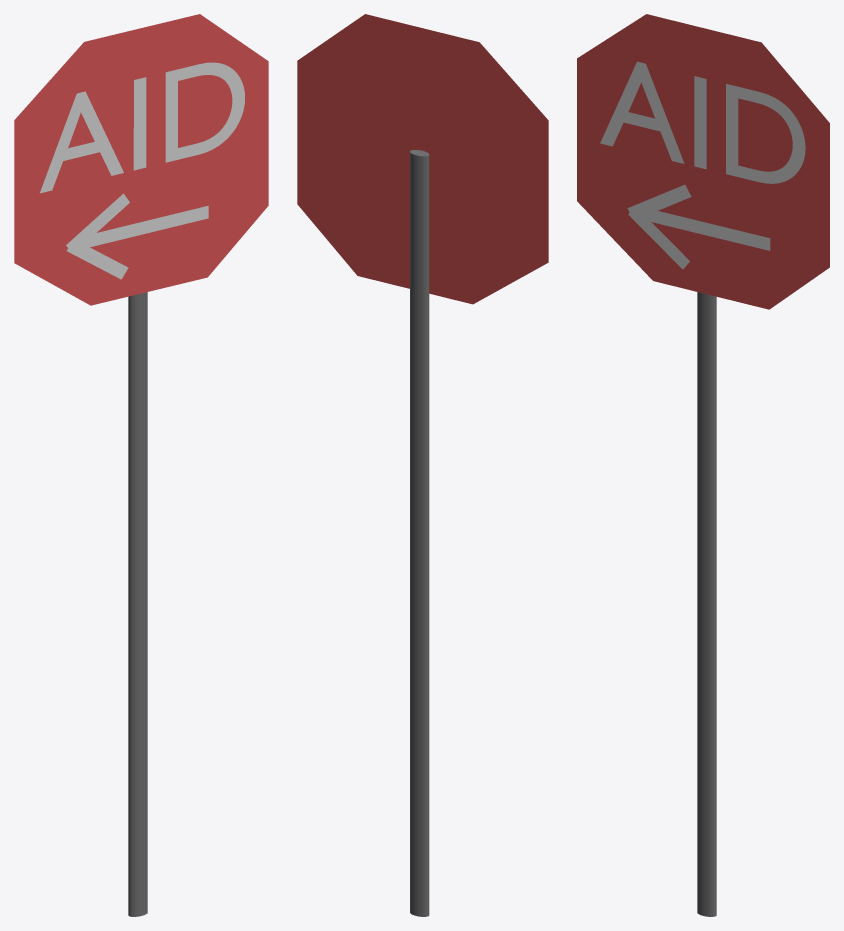
Rendered from AIDSign.fbx.
The picture shows the model from 3 angles, left to right: view 1: azimuth 30°, elevation 25°; view 2: azimuth 150°, elevation 25°; view 3: azimuth 330°, elevation 25°; orthographic projection.
Visible parts, largest first — view 1: AID; view 2: AID; view 3: AID.
Part boxes in pixels (<box>): AID: <box>14,14,268,916</box>; AID: <box>297,14,548,916</box>; AID: <box>577,14,829,916</box>.
Size of the model in its own units: 200 by 669 by 10.08.
